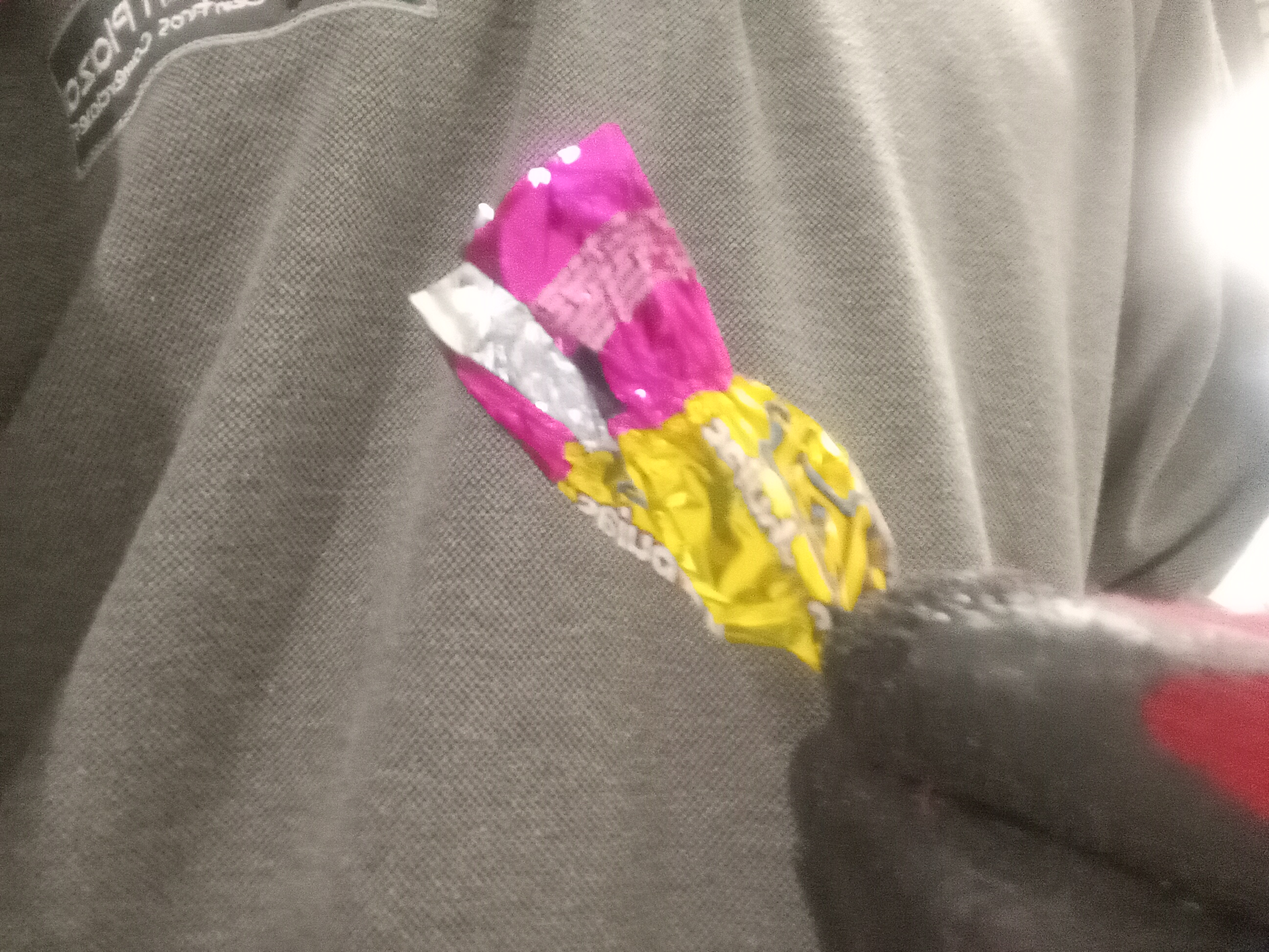Ordinario: (406, 123, 897, 674)
